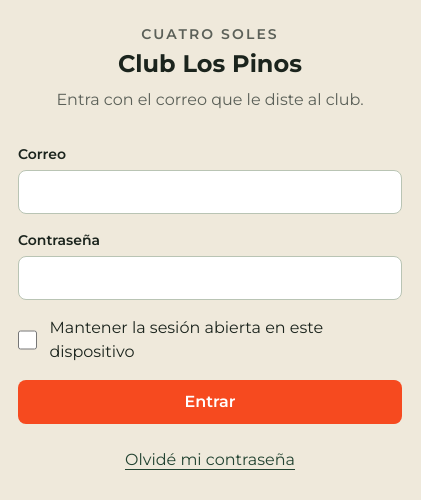
Test: Pantalla de ingreso · entrar › no valida contra el servidor lo que puede validar sola: un correo mal escrito ni sale
Type "esto-no-es-un-correo" into the field labelled "Correo" at x=210, y=192, box [18,170,402,214]
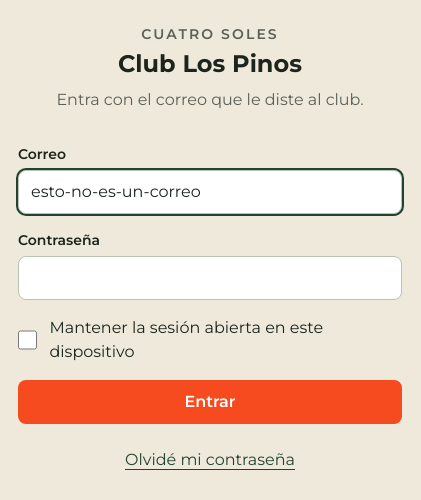
Type "mi-clave-larga-9" into the password field labelled "Contraseña" at x=210, y=278, box [18,256,402,300]
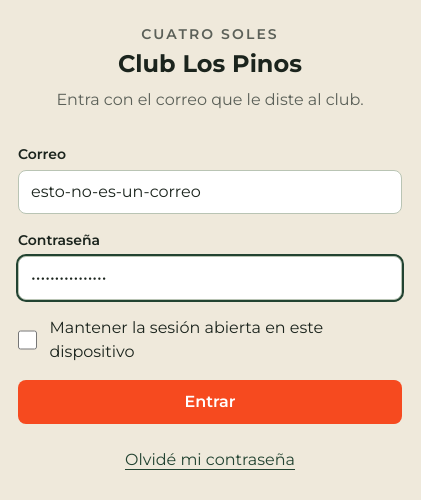
Click the button "Entrar" at x=210, y=402, box [18,380,402,424]
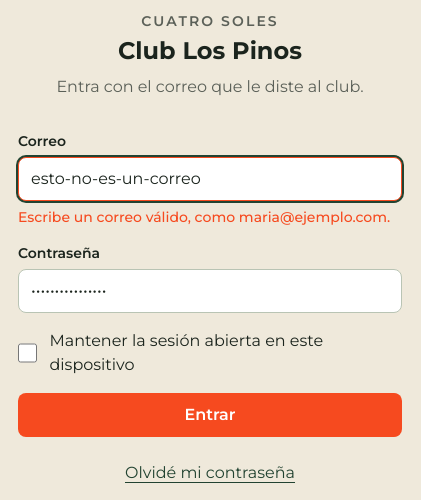
Expected: the text "Escribe un correo válido, como maria@ejemplo.com." is shown, [18,207,402,227]
